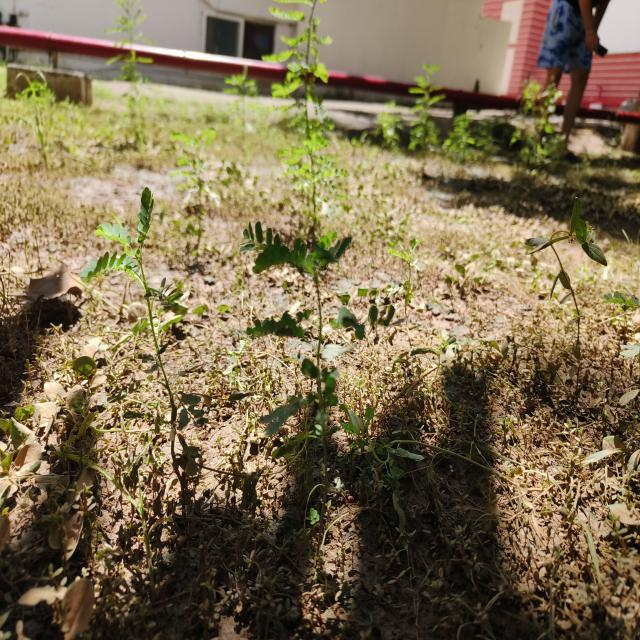weed: (238, 220, 392, 459), (72, 188, 170, 396)
